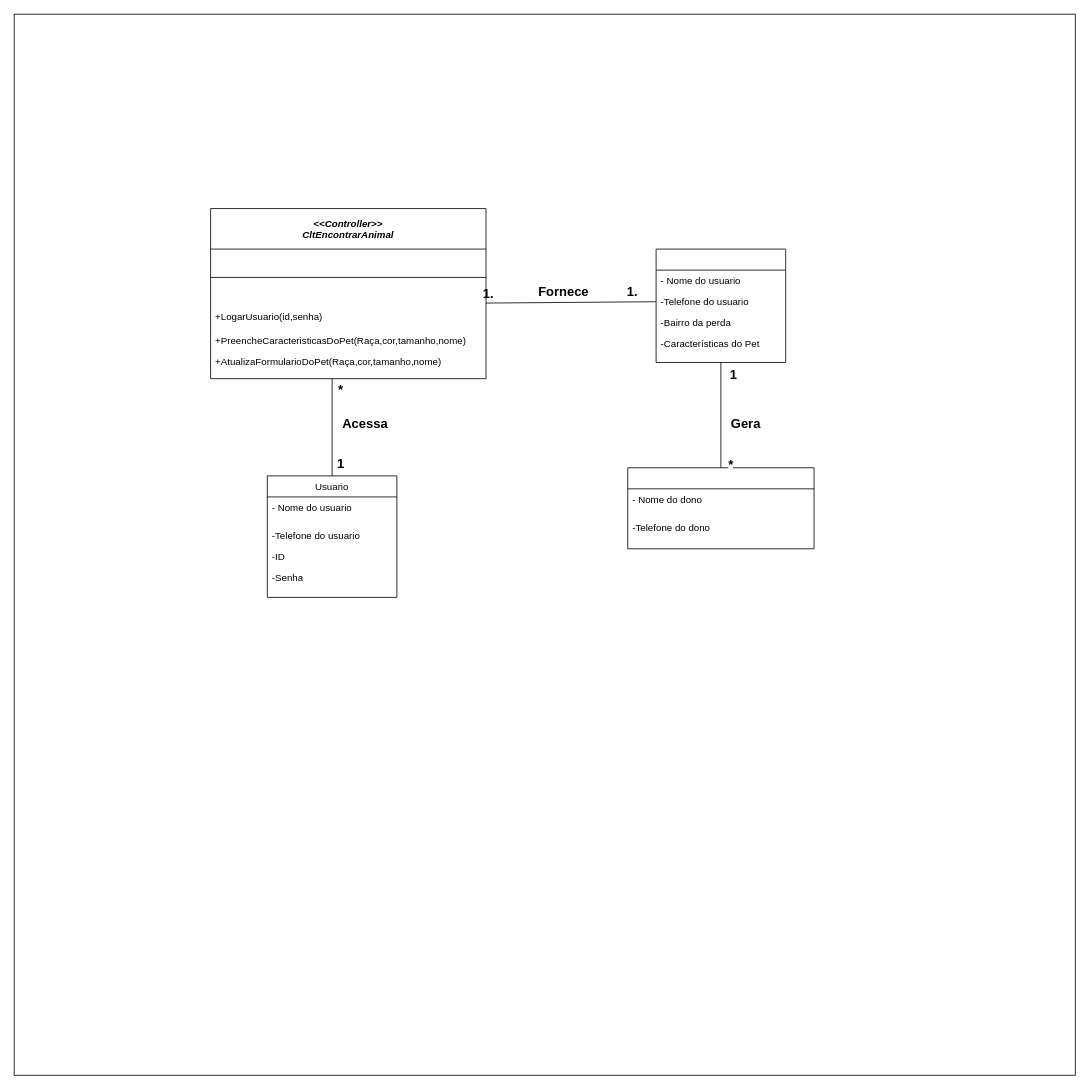
Some shapes in this 1089 by 1089 pixel diagram are drawn without their labels. The shapes that lost their labels are listed below. From the top down, each one's box as (x1, y1, x2, y2) in pixels, then its label:
(655, 248, 786, 362): PetFinder
(627, 467, 814, 549): Exibe contato do dono do animal
